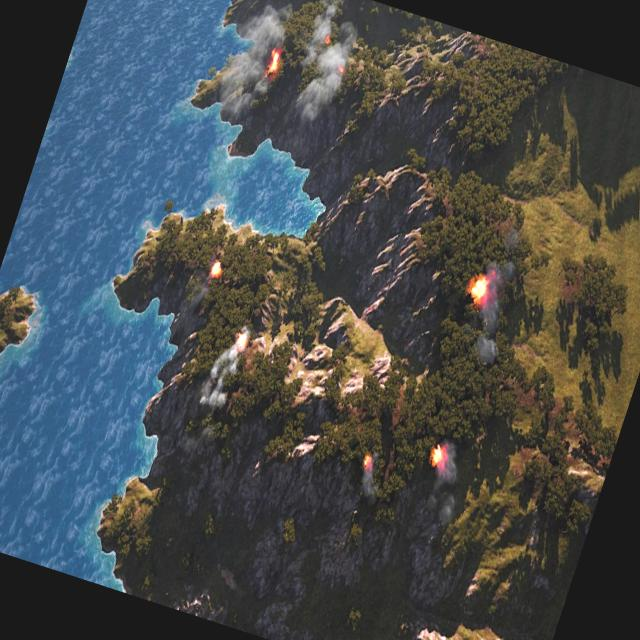fire: (468, 274, 492, 306), (264, 46, 284, 76), (427, 444, 448, 470), (234, 332, 249, 351), (209, 262, 224, 280), (362, 453, 376, 471), (322, 32, 334, 48), (336, 63, 346, 75)
smoke: (215, 0, 298, 125), (283, 0, 363, 129), (460, 250, 530, 371), (417, 434, 479, 536), (192, 322, 248, 418), (356, 462, 384, 503)
